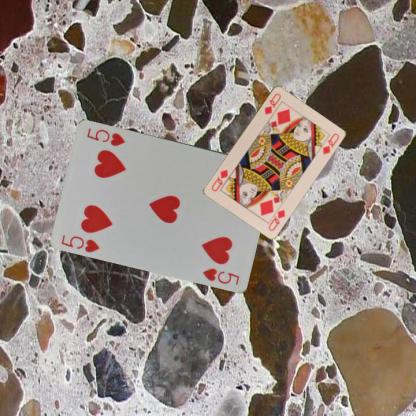5h: (59, 232, 101, 254)
Qd: (265, 202, 287, 232), (262, 90, 282, 116)
